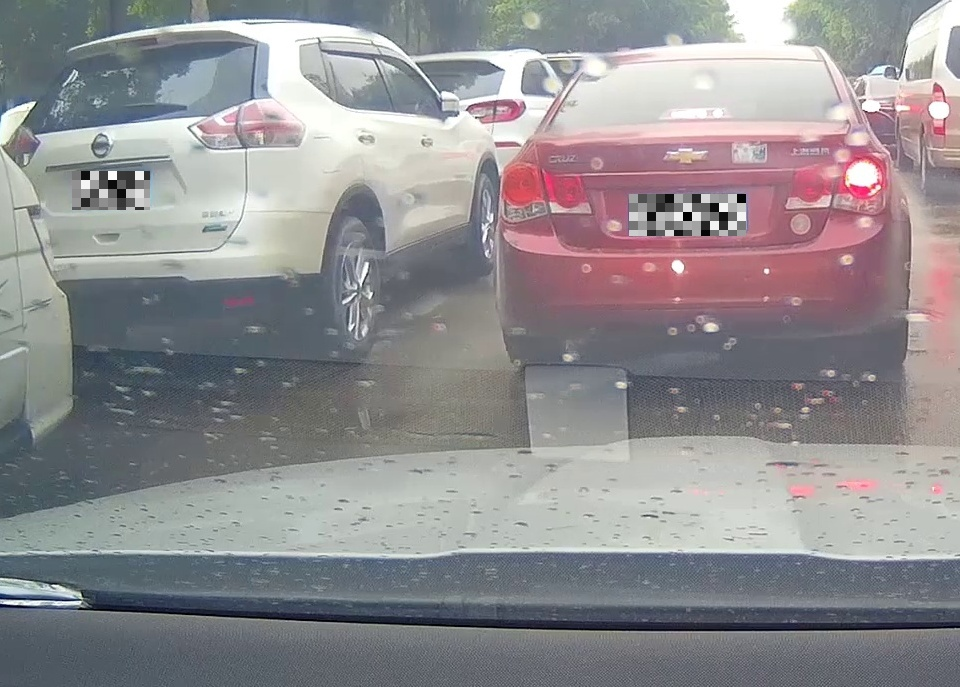L_light: (499, 161, 592, 223), (0, 125, 42, 168)
R_light: (784, 152, 889, 215), (187, 97, 305, 149)
T_light: (657, 106, 732, 121), (113, 36, 159, 50)
day-no: (0, 20, 315, 362)
day-right: (496, 44, 910, 365)
plate_1: (72, 171, 150, 210)
plate_2: (629, 194, 746, 236)
